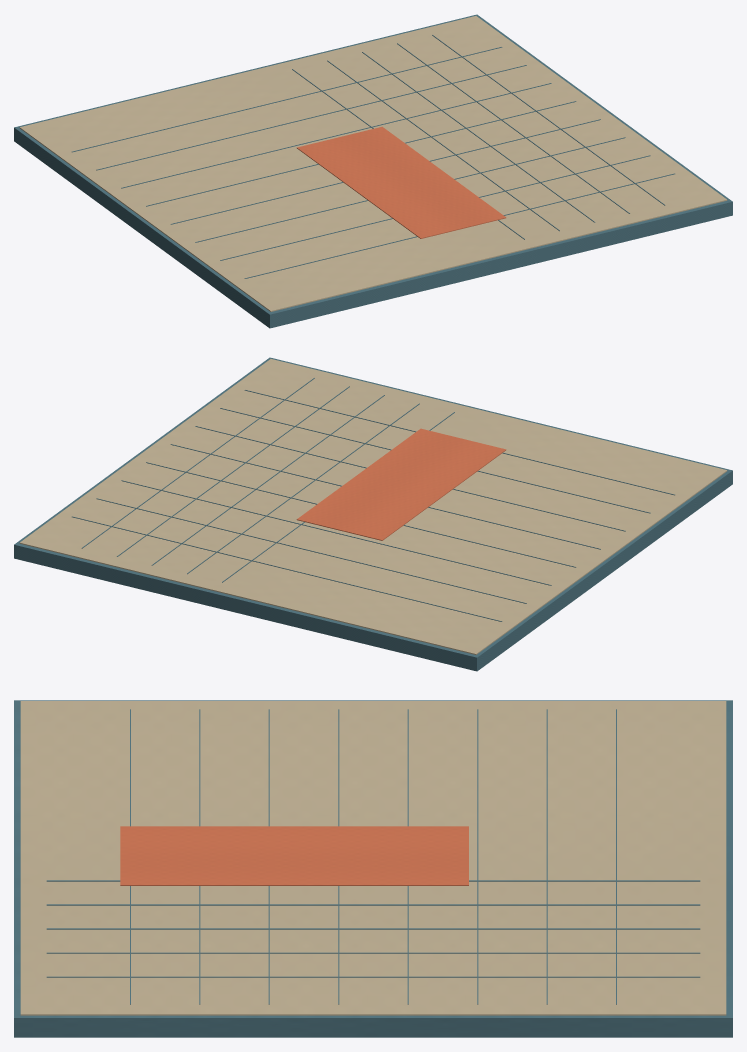
The model's file is atlas100-s045-a07.lod2.glb.
The picture shows the model from 3 angles, top to bottom: view 1: azimuth 30°, elevation 25°; view 2: azimuth 150°, elevation 25°; view 3: azimuth 270°, elevation 25°; orthographic projection. The views are drawn at different scales.
Parts seen in each view (by area): view 1: atlas100-s045-a07:part-001, atlas100-s045-a07:part-000, atlas100-s045-a07:part-021, atlas100-s045-a07:part-015, atlas100-s045-a07:part-013, atlas100-s045-a07:part-014, atlas100-s045-a07:part-019, atlas100-s045-a07:part-020, atlas100-s045-a07:part-016, atlas100-s045-a07:part-017, atlas100-s045-a07:part-018; view 2: atlas100-s045-a07:part-001, atlas100-s045-a07:part-000, atlas100-s045-a07:part-021, atlas100-s045-a07:part-014, atlas100-s045-a07:part-013, atlas100-s045-a07:part-015, atlas100-s045-a07:part-016, atlas100-s045-a07:part-017, atlas100-s045-a07:part-018, atlas100-s045-a07:part-020, atlas100-s045-a07:part-019; view 3: atlas100-s045-a07:part-001, atlas100-s045-a07:part-000, atlas100-s045-a07:part-021, atlas100-s045-a07:part-010, atlas100-s045-a07:part-009, atlas100-s045-a07:part-012, atlas100-s045-a07:part-011, atlas100-s045-a07:part-008, atlas100-s045-a07:part-014, atlas100-s045-a07:part-015.
Boxes of the visible parts, x1,y1,x2,y2 form: atlas100-s045-a07:part-001: [19, 16, 727, 311]; atlas100-s045-a07:part-000: [14, 14, 732, 328]; atlas100-s045-a07:part-021: [297, 126, 506, 238]; atlas100-s045-a07:part-015: [121, 83, 551, 188]; atlas100-s045-a07:part-013: [72, 47, 502, 152]; atlas100-s045-a07:part-014: [96, 65, 526, 170]; atlas100-s045-a07:part-019: [220, 155, 650, 260]; atlas100-s045-a07:part-020: [244, 173, 674, 278]; atlas100-s045-a07:part-016: [146, 101, 576, 206]; atlas100-s045-a07:part-017: [170, 119, 600, 224]; atlas100-s045-a07:part-018: [195, 137, 625, 242]; atlas100-s045-a07:part-001: [19, 359, 727, 654]; atlas100-s045-a07:part-000: [14, 357, 732, 671]; atlas100-s045-a07:part-021: [296, 428, 506, 540]; atlas100-s045-a07:part-014: [96, 498, 526, 603]; atlas100-s045-a07:part-013: [72, 516, 502, 621]; atlas100-s045-a07:part-015: [121, 480, 551, 585]; atlas100-s045-a07:part-016: [146, 462, 576, 567]; atlas100-s045-a07:part-017: [170, 444, 600, 549]; atlas100-s045-a07:part-018: [195, 426, 625, 531]; atlas100-s045-a07:part-020: [244, 390, 674, 495]; atlas100-s045-a07:part-019: [220, 408, 650, 513]; atlas100-s045-a07:part-001: [20, 701, 726, 1015]; atlas100-s045-a07:part-000: [14, 700, 732, 1037]; atlas100-s045-a07:part-021: [120, 826, 468, 885]; atlas100-s045-a07:part-010: [46, 928, 700, 929]; atlas100-s045-a07:part-009: [46, 904, 700, 905]; atlas100-s045-a07:part-012: [46, 976, 700, 977]; atlas100-s045-a07:part-011: [46, 952, 700, 953]; atlas100-s045-a07:part-008: [46, 880, 700, 881]; atlas100-s045-a07:part-014: [546, 709, 547, 1004]; atlas100-s045-a07:part-015: [477, 709, 478, 1004].
Bounding box in the file's own units: 11.9 × 0.404 × 11.39.
3 materials, 3 textured.
